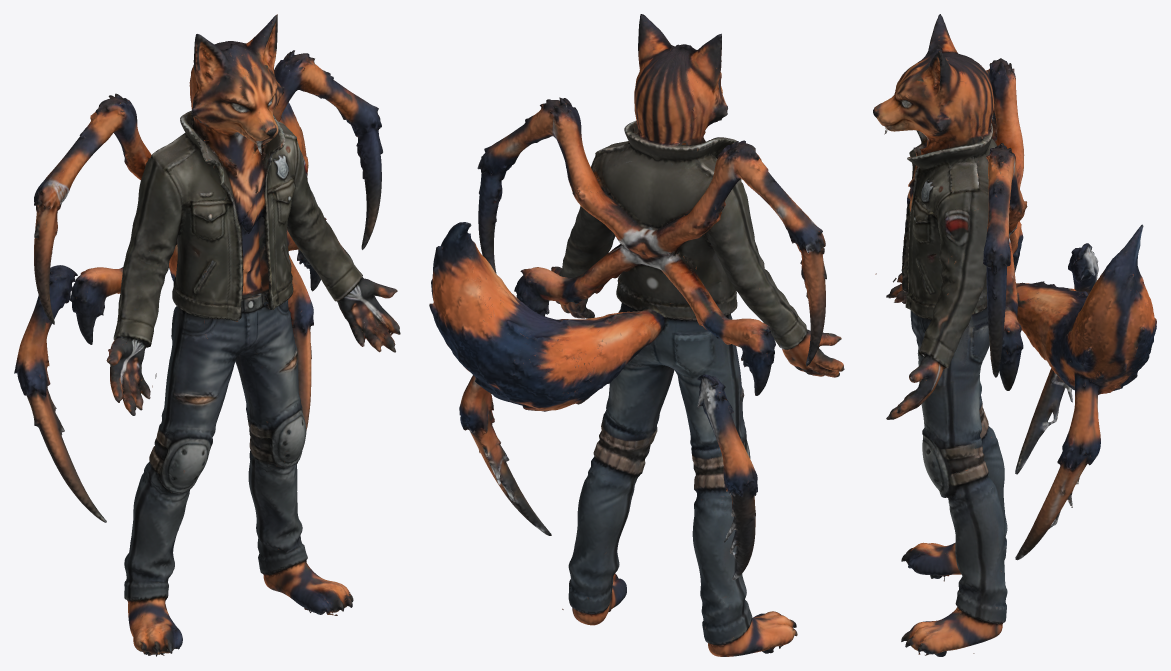
The model's file is Meshy_AI_Kai_sabertooth_fox_sp_0219223337_texture.glb.
The picture shows the model from 3 angles, left to right: view 1: azimuth 30°, elevation 25°; view 2: azimuth 150°, elevation 25°; view 3: azimuth 270°, elevation 25°; orthographic projection. The views are drawn at different scales.
Size of the model in its own units: 1.2 by 2 by 0.8805.
1 material, 1 textured.
